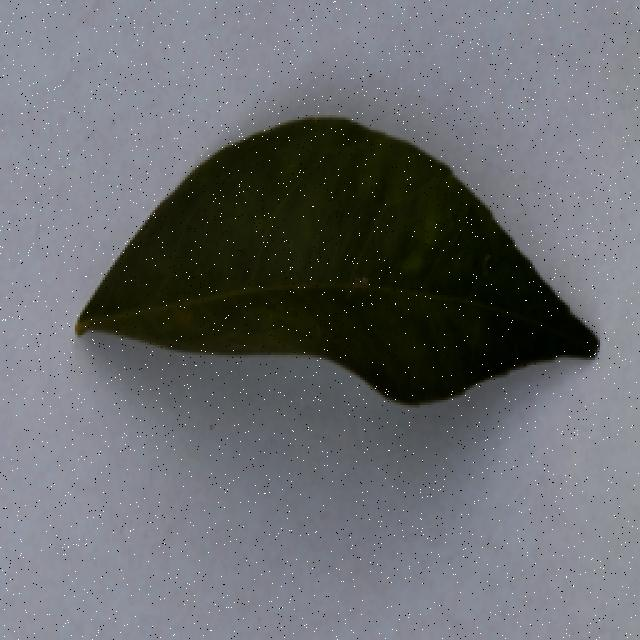healthy: (82, 110, 603, 428)
